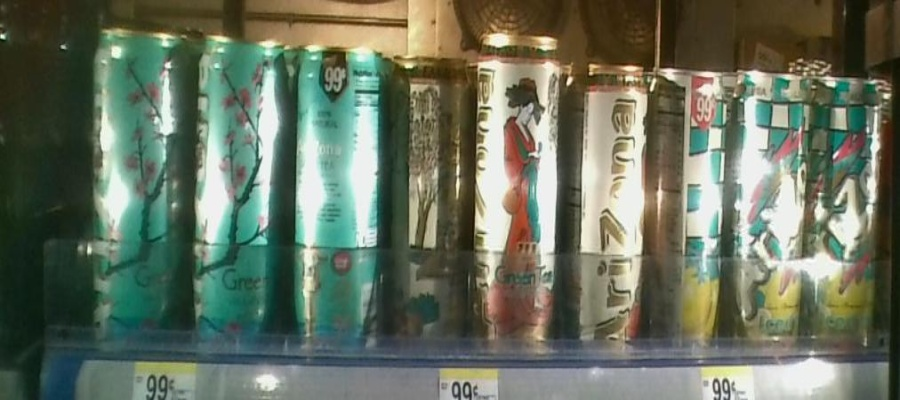bottle: (185, 33, 291, 358), (86, 15, 184, 351), (294, 37, 382, 372), (558, 46, 649, 359), (477, 22, 561, 359), (388, 44, 475, 365), (650, 51, 728, 360), (731, 51, 809, 351), (812, 53, 886, 358)
